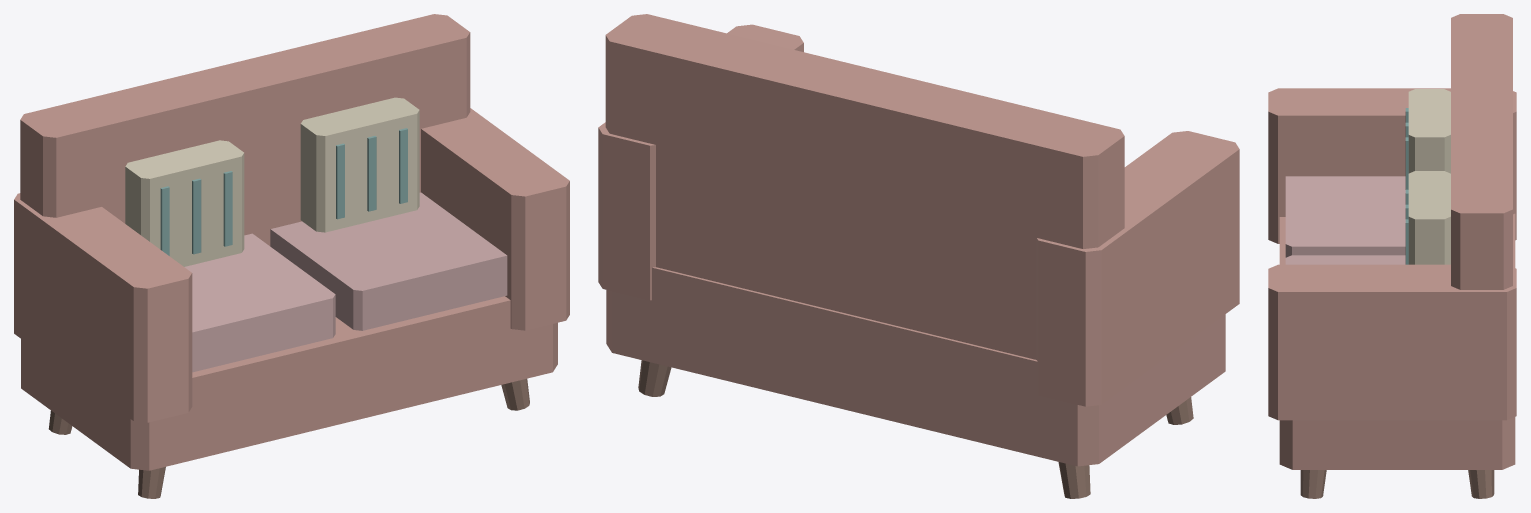
File: sofa.glb
3 views of the same model, side by side, from view 1: azimuth 30°, elevation 25°; view 2: azimuth 150°, elevation 25°; view 3: azimuth 270°, elevation 25° (orthographic). The views are drawn at different scales.
Visible parts, largest first — view 1: sofa; view 2: sofa; view 3: sofa.
Part boxes in pixels (left/top/right/bottom): sofa: left=14, top=14, right=569, bottom=498; sofa: left=598, top=14, right=1239, bottom=498; sofa: left=1268, top=14, right=1516, bottom=498.
Size of the model in its own units: 1.94 by 1.32 by 1.
